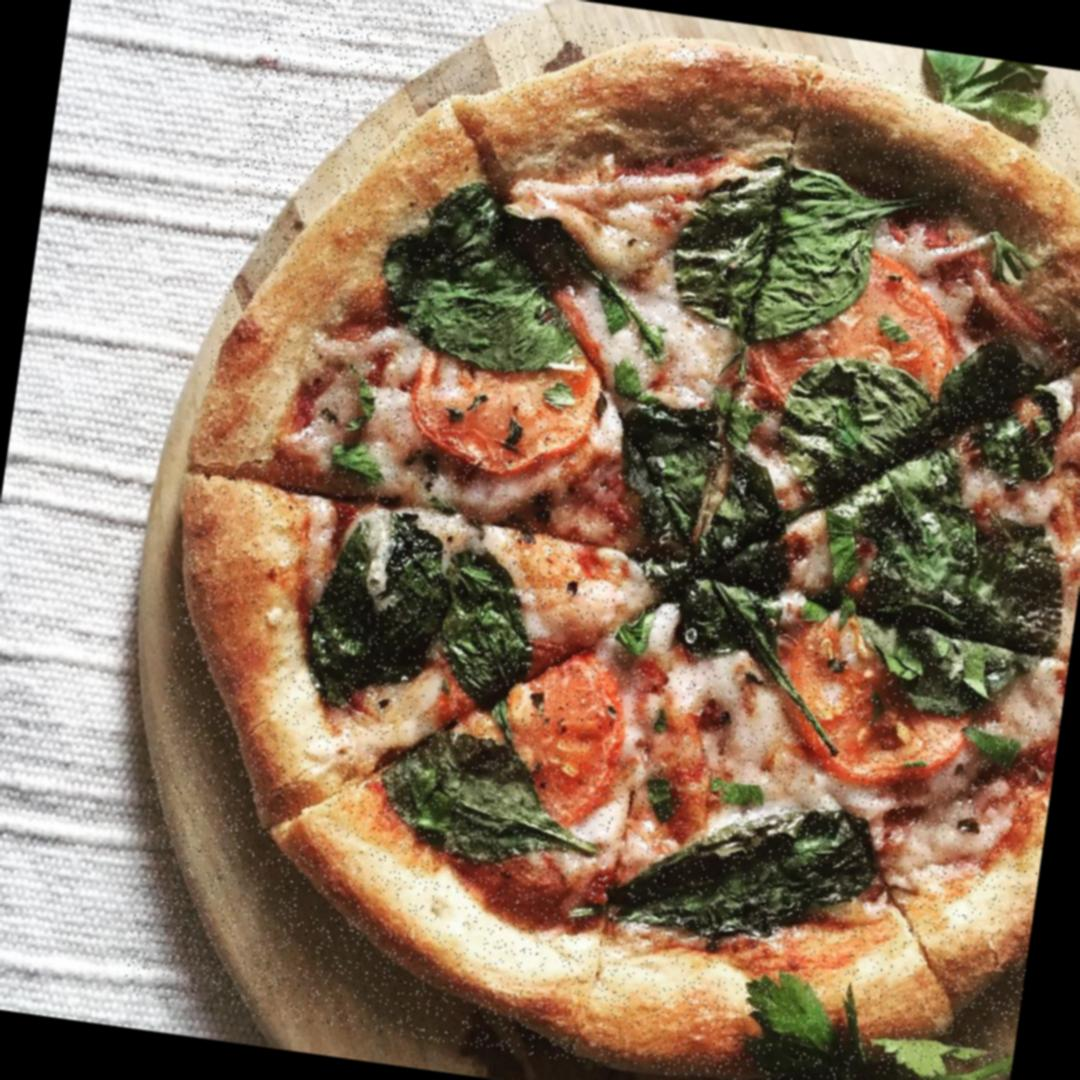Basil: (756, 352, 994, 610), (606, 401, 810, 663), (299, 513, 546, 720), (600, 780, 884, 958), (856, 504, 1068, 732), (664, 147, 877, 353), (370, 181, 592, 378), (368, 734, 580, 871), (927, 338, 1075, 491)
Pepperoni: (748, 238, 959, 418), (768, 617, 974, 794), (488, 640, 631, 826), (405, 357, 601, 488), (604, 659, 732, 859)
Pizza: (120, 0, 1080, 1080)
